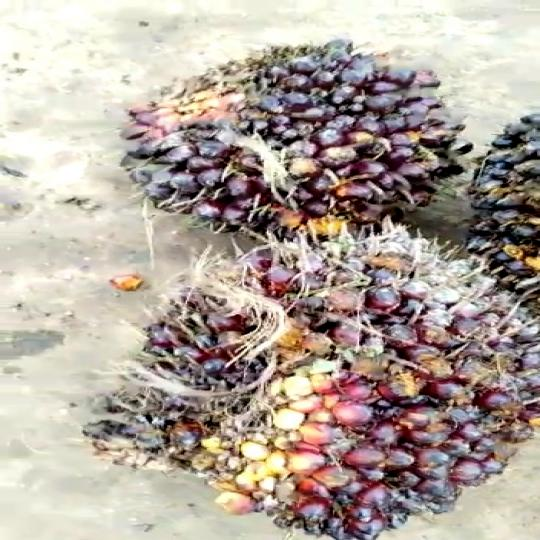kurang masak: (86, 231, 540, 540), (118, 33, 469, 249)
